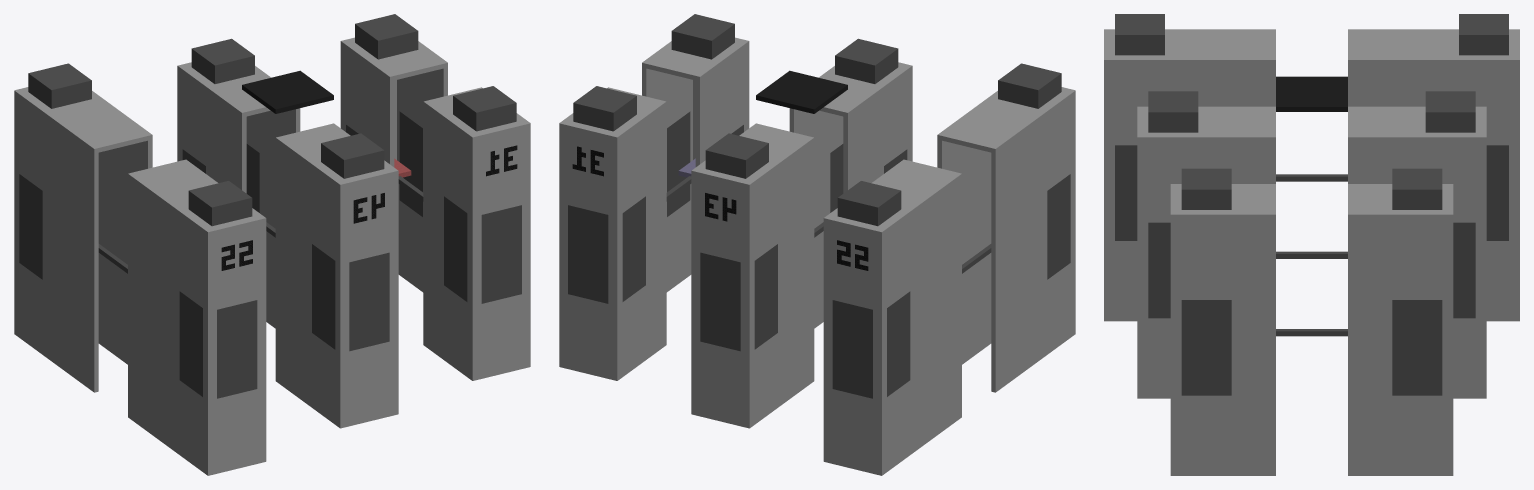
The model's file is minecraft.obj.
The picture shows the model from 3 angles, left to right: view 1: azimuth 30°, elevation 25°; view 2: azimuth 150°, elevation 25°; view 3: azimuth 270°, elevation 25°; orthographic projection. The views are drawn at different scales.
Size of the model in its own units: 79 by 58 by 75.
